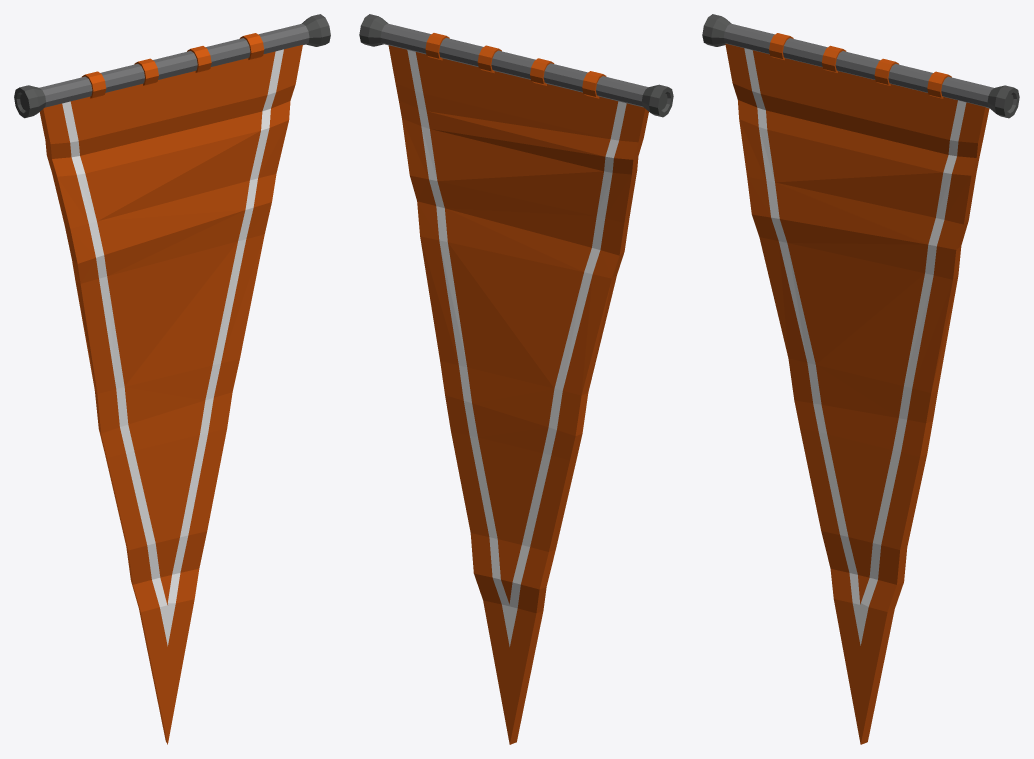
The model's file is SFHW_Banner_002.fbx.
The picture shows the model from 3 angles, left to right: view 1: azimuth 30°, elevation 25°; view 2: azimuth 150°, elevation 25°; view 3: azimuth 330°, elevation 25°; orthographic projection.
Parts seen in each view (by area): view 1: SFHW_Banner_002; view 2: SFHW_Banner_002; view 3: SFHW_Banner_002.
Boxes of the visible parts, bbox=[...] form: SFHW_Banner_002: bbox=[14, 14, 330, 744]; SFHW_Banner_002: bbox=[359, 14, 673, 744]; SFHW_Banner_002: bbox=[702, 14, 1019, 744].
Bounding box in the file's own units: 25.64 × 56.44 × 2.52.
